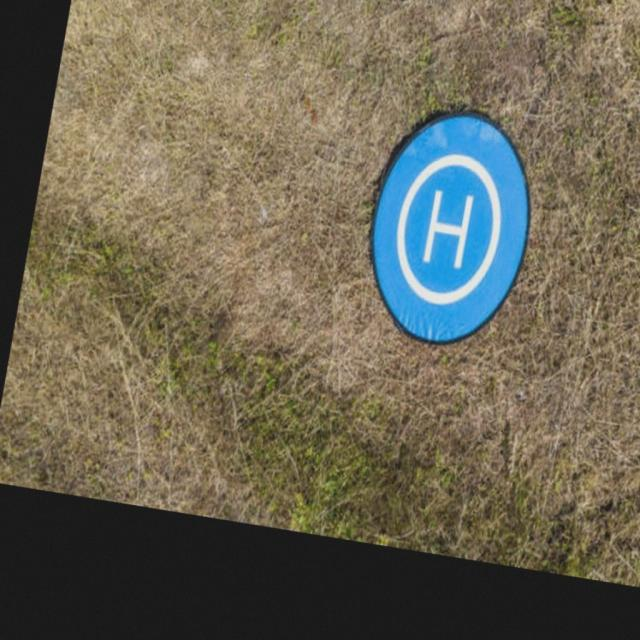helipad: (392, 150, 502, 308)
